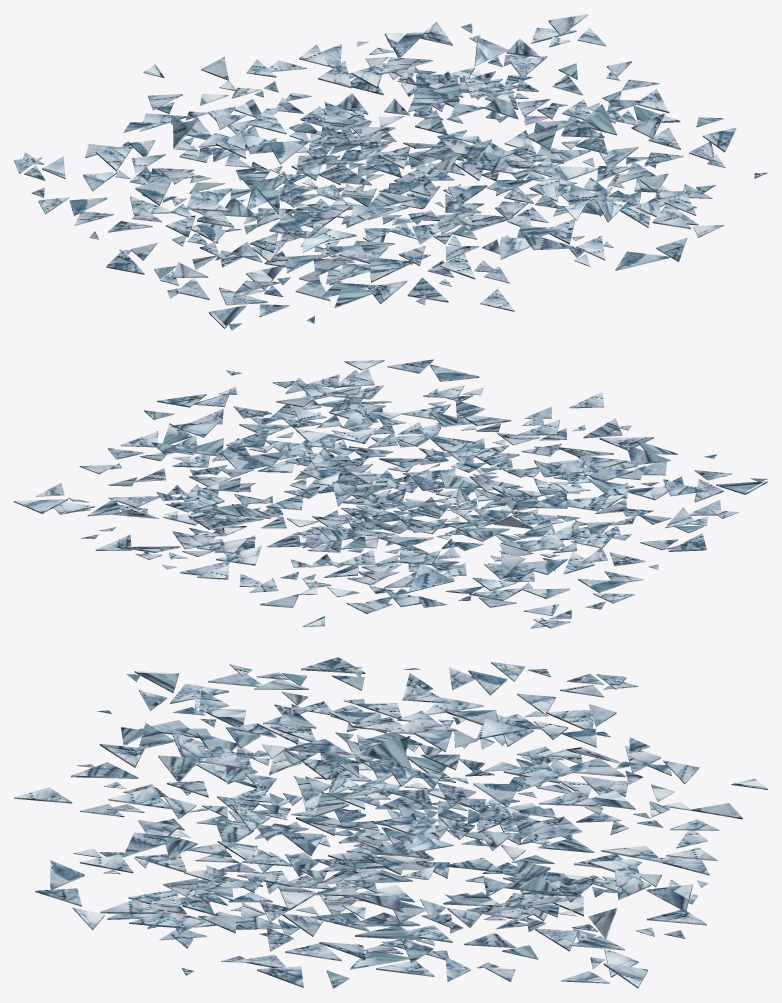
The model's file is cracked_glass.fbx.
The picture shows the model from 3 angles, top to bottom: view 1: azimuth 30°, elevation 25°; view 2: azimuth 150°, elevation 25°; view 3: azimuth 270°, elevation 25°; orthographic projection. The views are drawn at different scales.
Visible parts, largest first — view 1: Cube.003; view 2: Cube.003; view 3: Cube.003.
Part boxes in pixels (box(x1,y1,x2,y2)): Cube.003: box(14, 14, 767, 330); Cube.003: box(14, 359, 767, 628); Cube.003: box(14, 657, 767, 988).
Size of the model in its own units: 528 by 14.44 by 507.
